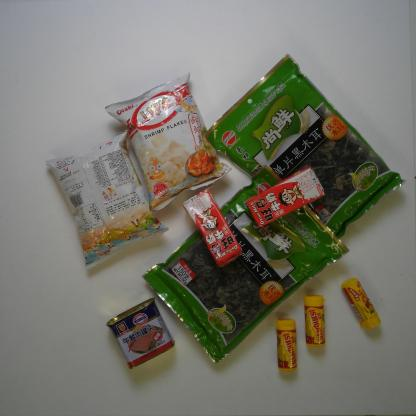Candy: (339, 276, 385, 334), (300, 292, 334, 347), (274, 317, 305, 372)
Canned Food: (103, 296, 178, 370)
Dried Food: (136, 165, 352, 363), (202, 52, 399, 248)
Milk: (246, 165, 329, 233), (181, 186, 242, 271)
Puffed Food: (39, 128, 168, 266), (104, 71, 231, 206)
